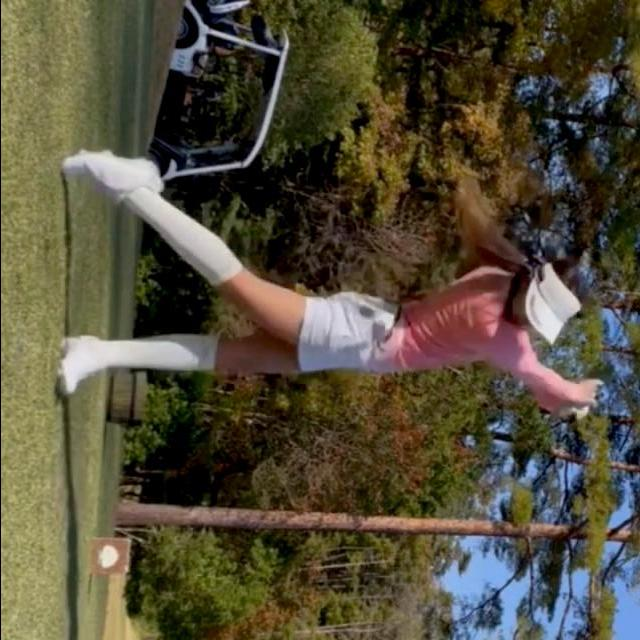ClubHandle: (559, 392, 605, 425)
GolfBall: (94, 545, 115, 569)
